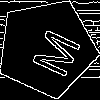M: (22, 23, 82, 80)
